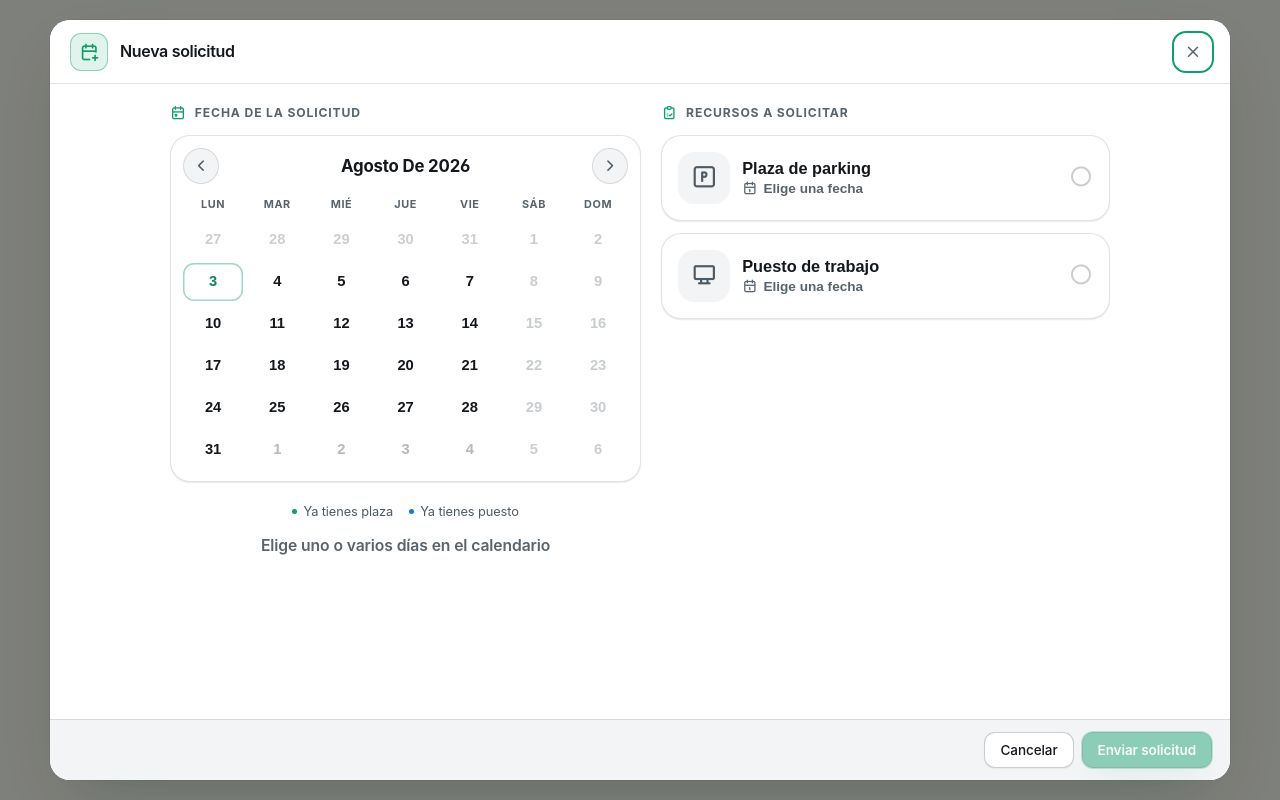
Test case: CreateRequestModal (unified request) › waitlist (capability request-waitlist) › should_offer_join_waitlist_when_availability_is_zero_without_blocking_submit
Step 1. Click the button with class "is-today" → click(213, 282), box [183,263,243,301]
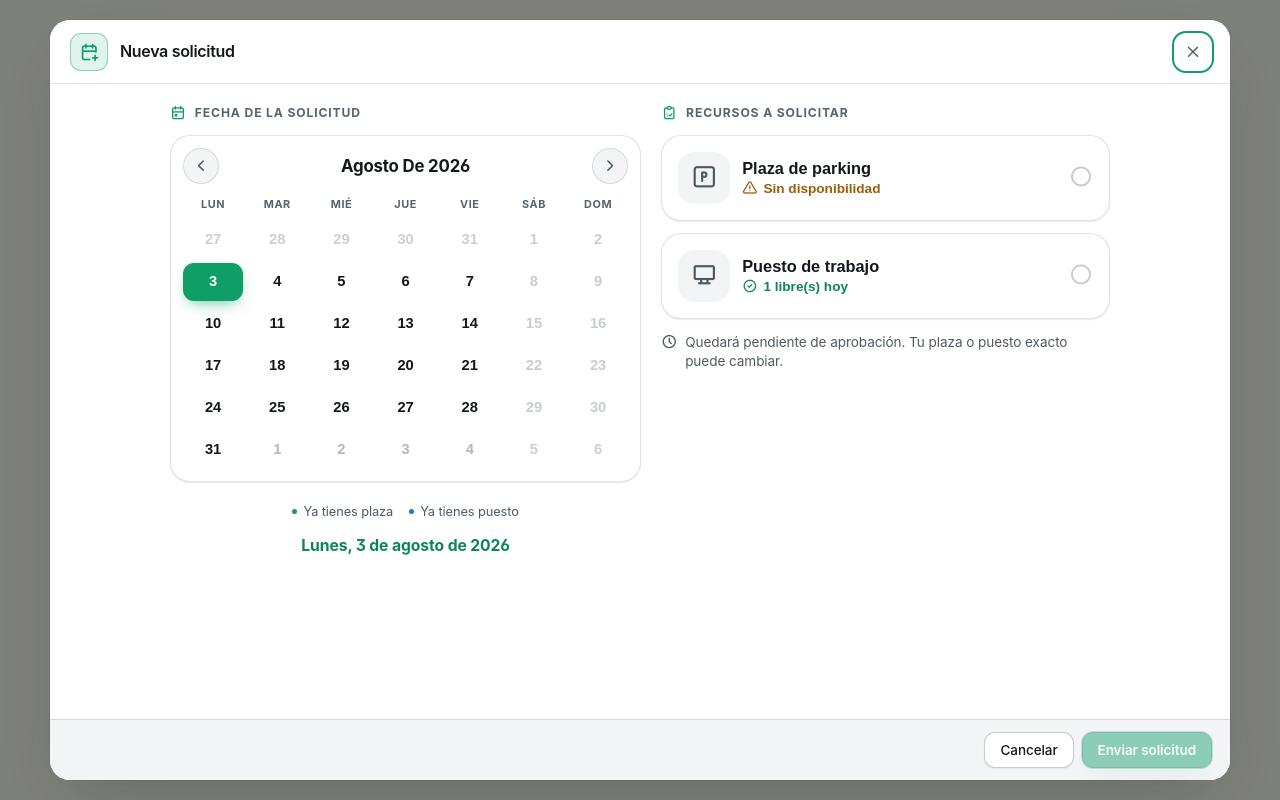
Step 2. Click the button "Plaza de parking Sin disponibilidad" → click(704, 178), box [662,136,1109,220]
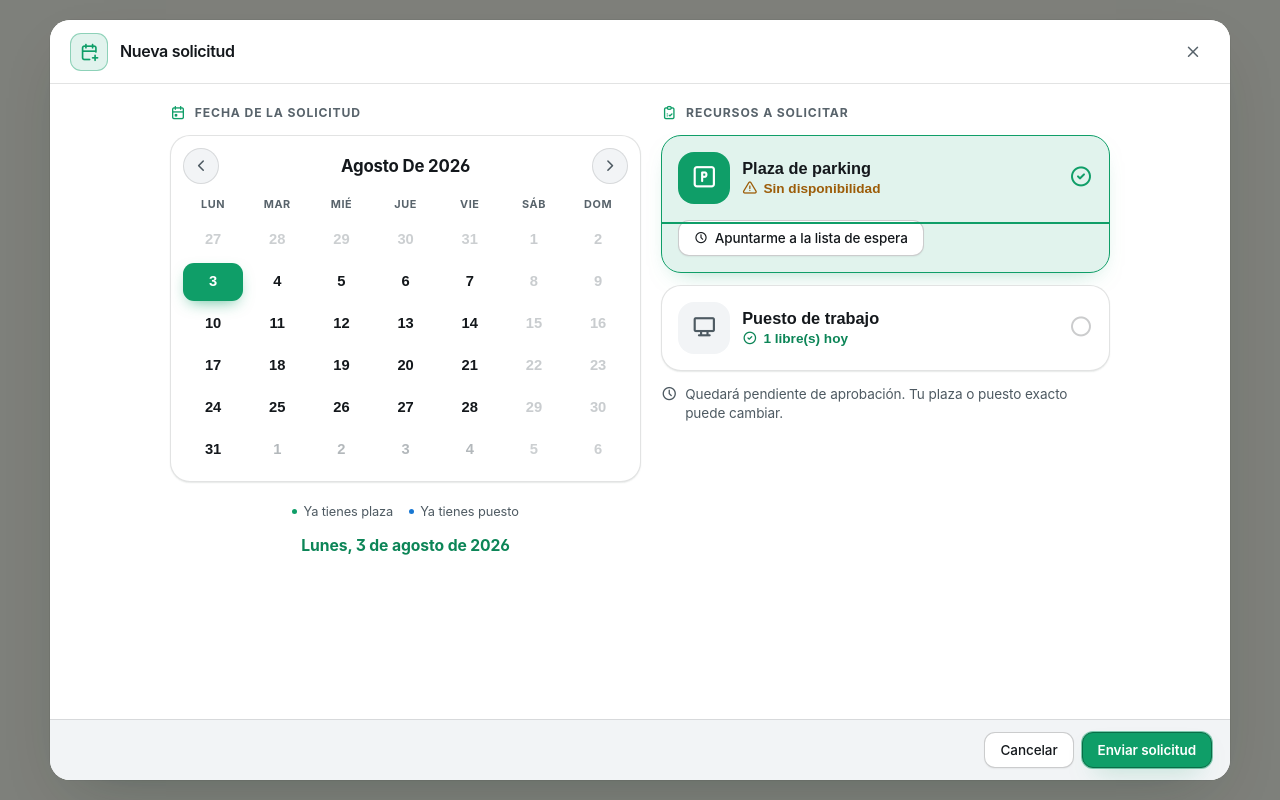
Now the text "Sin disponibilidad" is shown, box [742,181,880,196]
Now the button "Apuntarme a la lista de espera" is shown, box [678,220,924,256]
Now the button "Enviar solicitud" is enabled, box [1082,732,1212,768]
